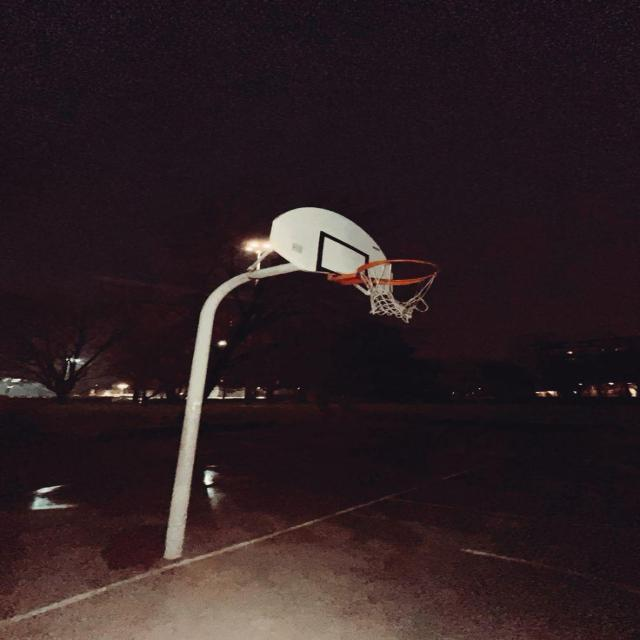hoop: (328, 249, 489, 329)
